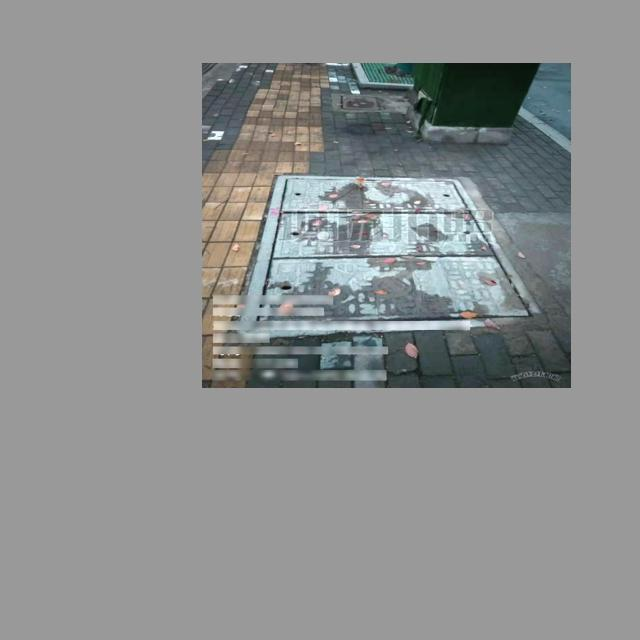good: (236, 174, 540, 335)
